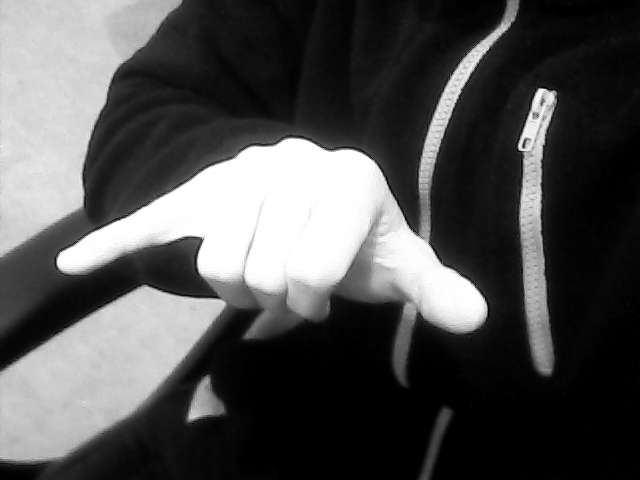aloha: (55, 133, 492, 339)
